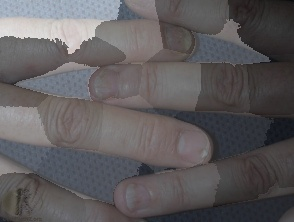Nail_psoriasis: (159, 22, 197, 61), (121, 181, 152, 216), (90, 67, 119, 103), (195, 146, 210, 167)
